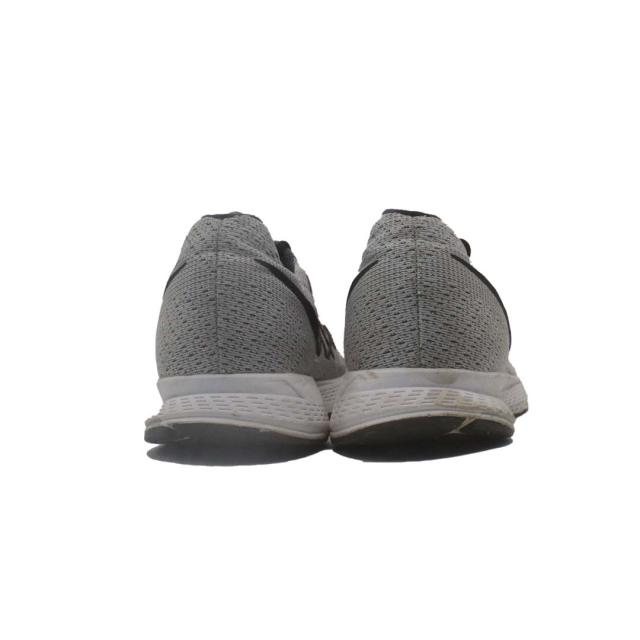heel: (346, 196, 494, 372), (156, 210, 308, 374)
midsole: (143, 372, 537, 465)
